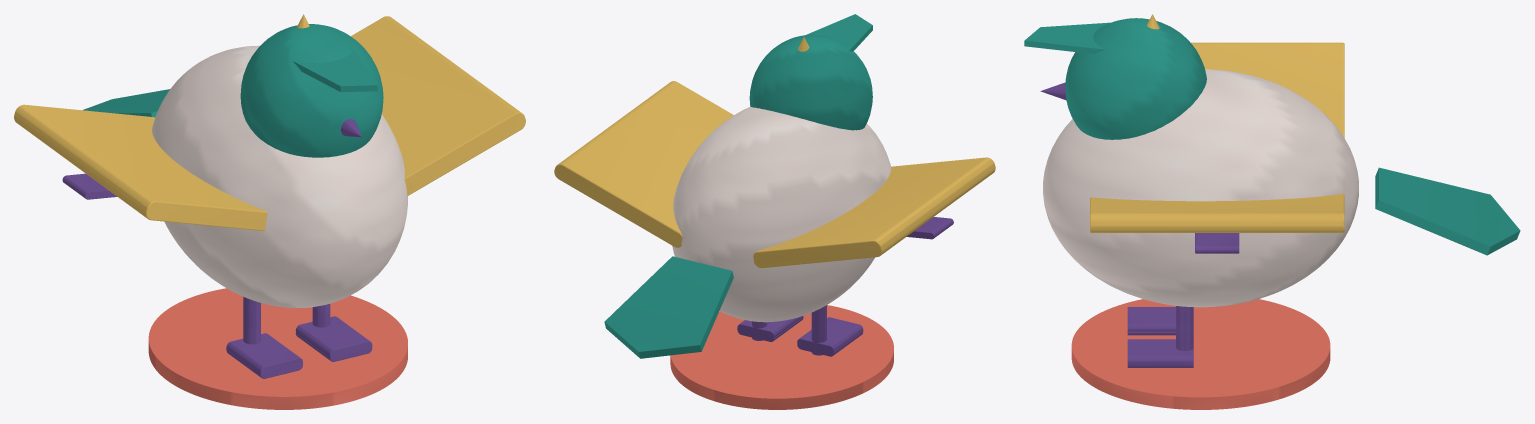
File: 0074_鸟类图鉴_金刚鹦鹉.glb
3 renders of one model, left to right at view 1: azimuth 30°, elevation 25°; view 2: azimuth 150°, elevation 25°; view 3: azimuth 270°, elevation 25°, orthographic. The views are drawn at different scales.
Visible parts, largest first — view 1: card_0074; view 2: card_0074; view 3: card_0074.
Boxes of the visible parts, x1,y1,x2,y2 form: card_0074: (14, 14, 525, 409); card_0074: (554, 14, 995, 409); card_0074: (1024, 14, 1520, 409).
Bounding box in the file's own units: 1.15 × 1 × 1.31.
